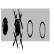correct: (2, 14, 9, 38)
no answer: (26, 18, 34, 40), (39, 18, 46, 42)
